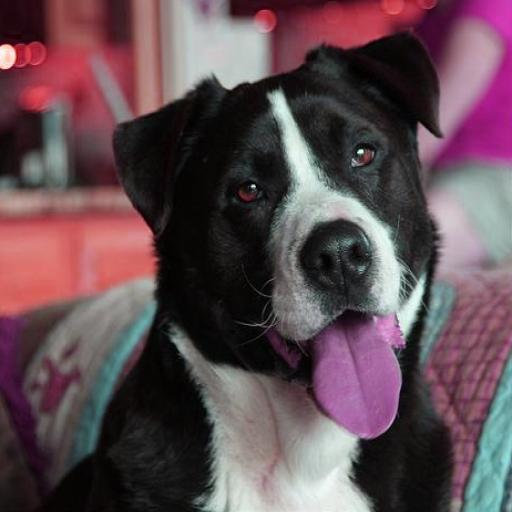dog_face: (130, 28, 437, 423)
